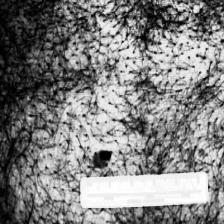Benign Marking or Mole: (92, 149, 116, 170)
